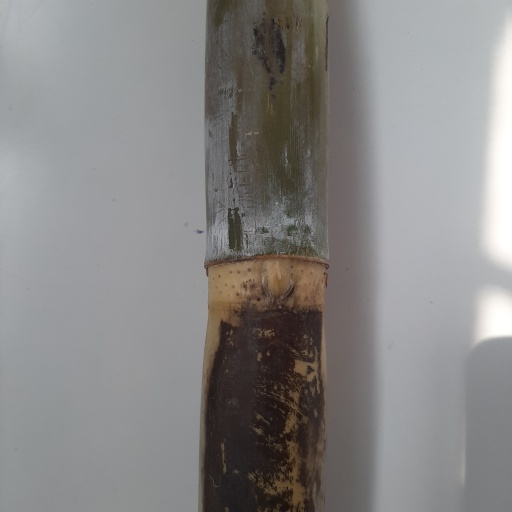Bud: (261, 264, 296, 308)
